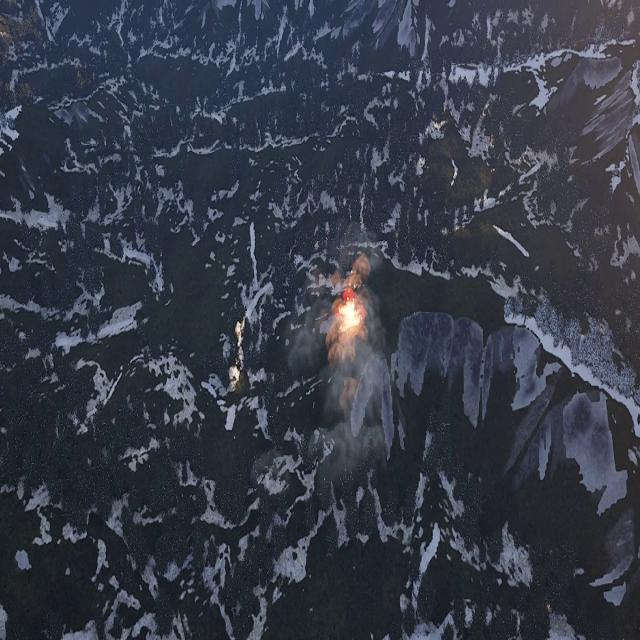fire: (337, 296, 364, 334)
smoke: (290, 235, 396, 485)
